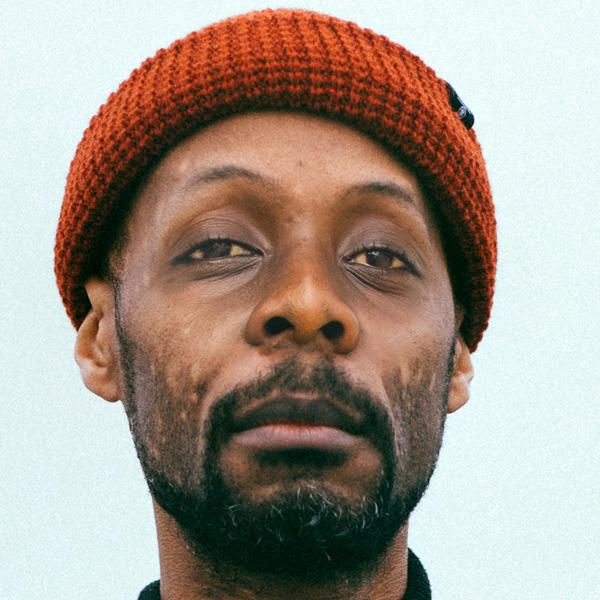Eyes: (154, 209, 276, 291), (318, 218, 439, 296)
